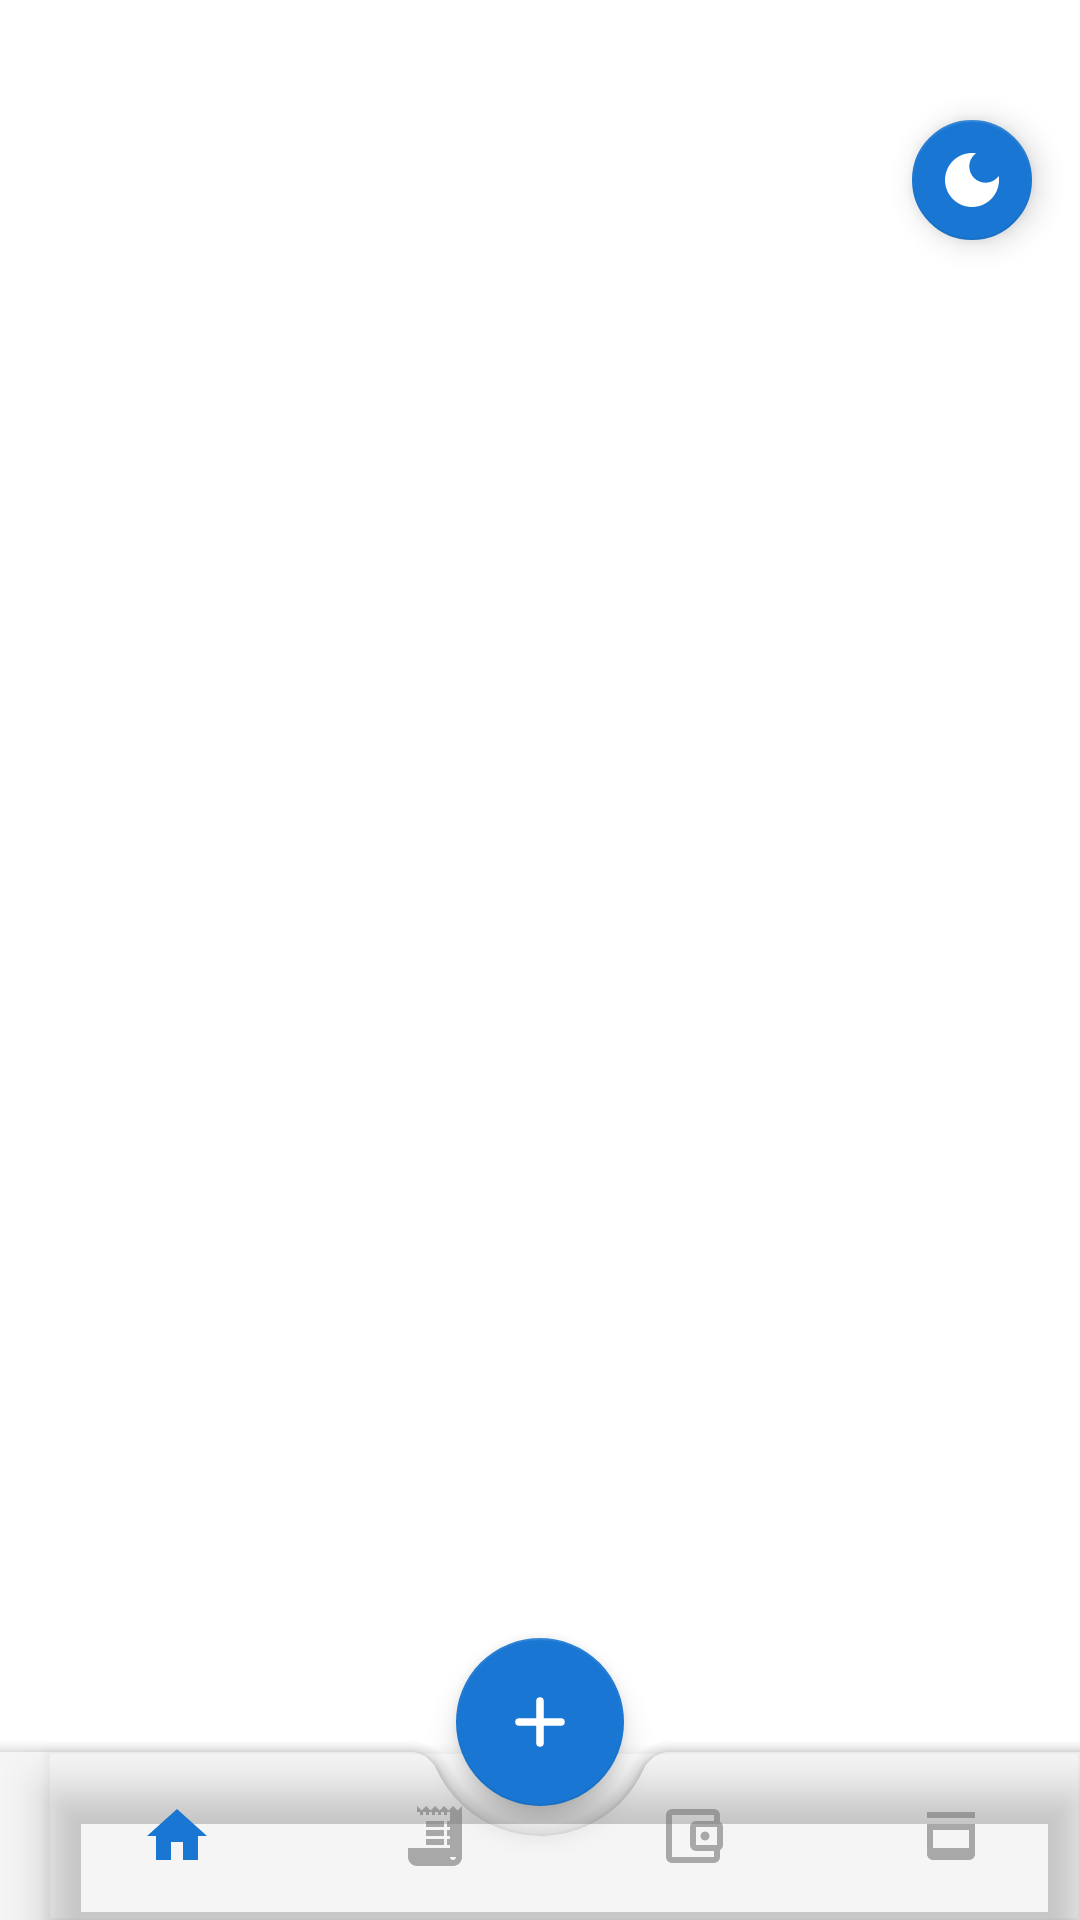

Icon click points for this 1080 × 1920 phone screenshot, format point (x, y):
Toggle Theme: point (973, 180)
